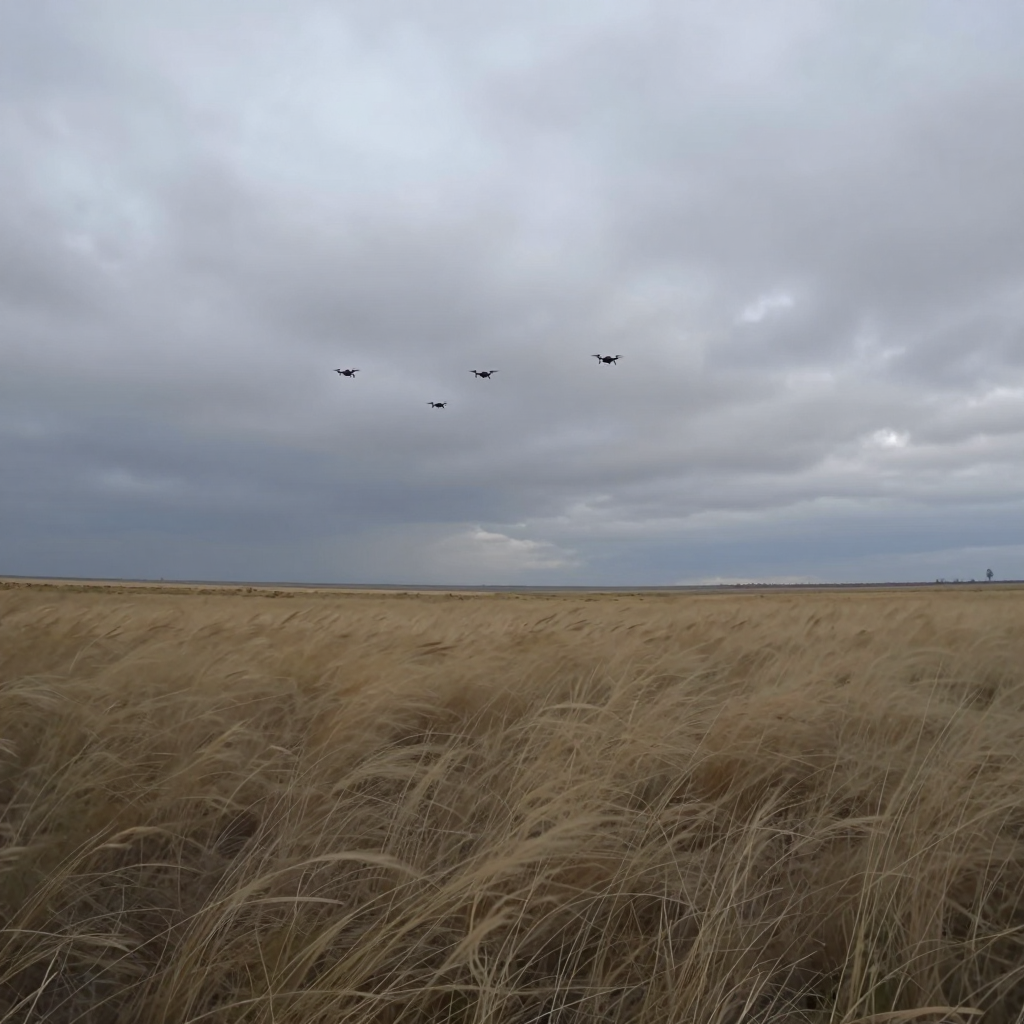drone: (591, 354, 624, 365), (469, 370, 499, 379), (333, 368, 360, 378), (426, 402, 448, 409)
